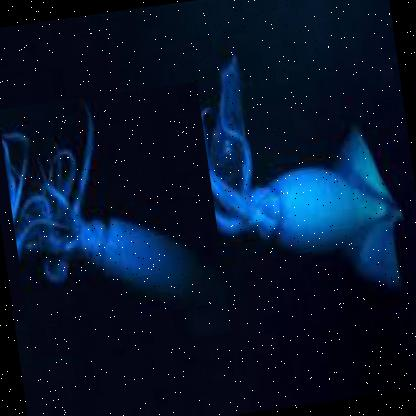colossal_squid: (0, 80, 234, 361), (193, 53, 415, 284)
